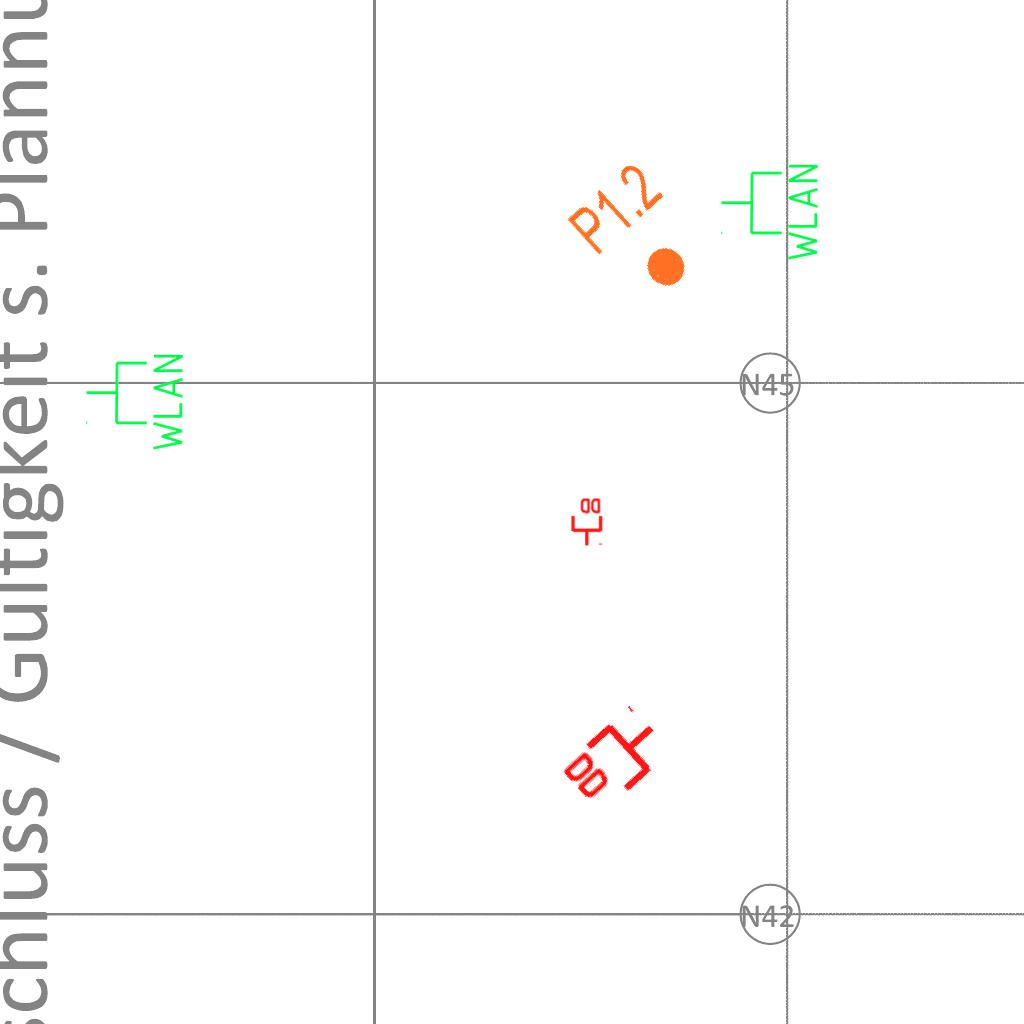Datenanschluss_zweifach: (555, 701, 678, 822), (569, 496, 603, 547)
Downlight_LED_Einbauleuchten_Flur: (562, 156, 717, 314)
WLAN: (718, 160, 822, 265), (83, 350, 187, 455)
